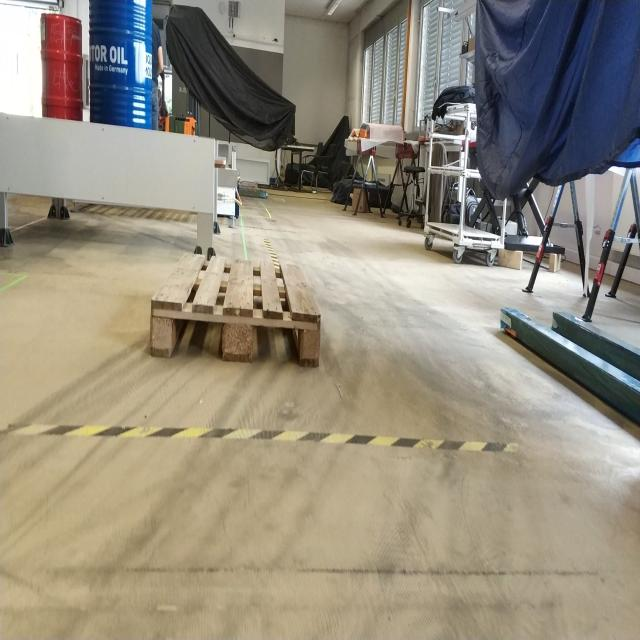block: (220, 307, 256, 364), (147, 298, 172, 358), (300, 311, 322, 369)
front: (147, 296, 322, 371)
